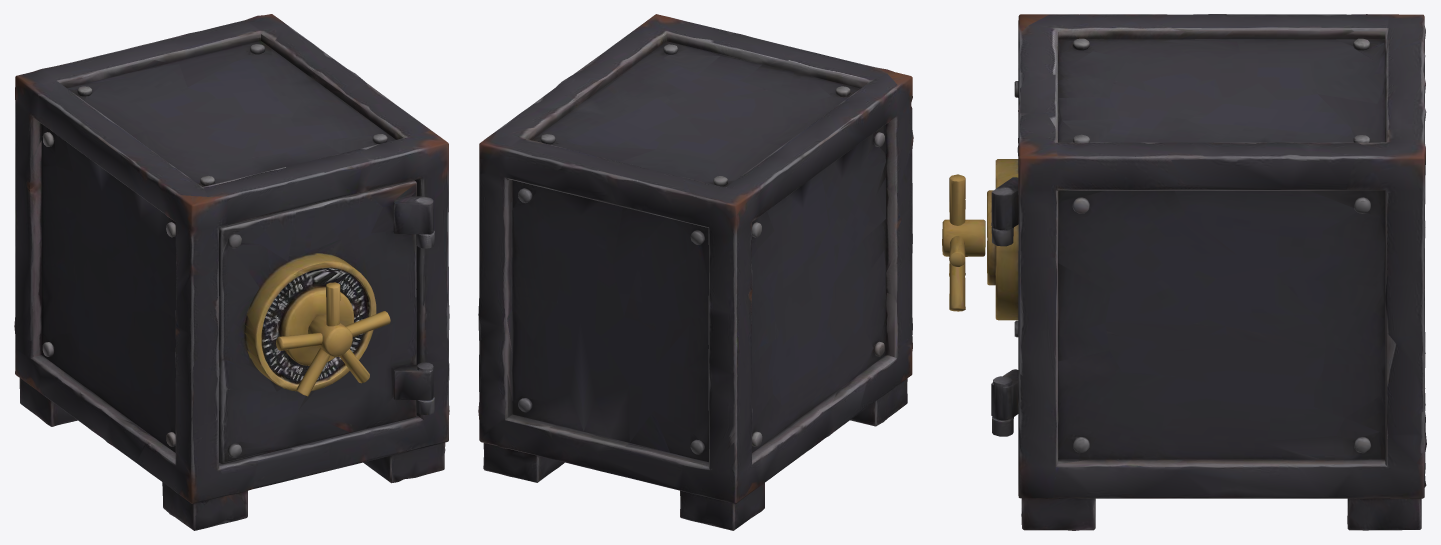
Rendered from safe_metal_nastennyy.glb.
3 views of the same model, side by side, from view 1: azimuth 30°, elevation 25°; view 2: azimuth 150°, elevation 25°; view 3: azimuth 270°, elevation 25° (orthographic). The views are drawn at different scales.
Parts seen in each view (by area): view 1: body, door; view 2: body; view 3: body, door.
Part boxes in pixels (bbox=[...]): body: bbox=[14, 14, 449, 530]; door: bbox=[218, 180, 433, 475]; body: bbox=[478, 14, 913, 530]; body: bbox=[993, 14, 1426, 530]; door: bbox=[942, 81, 1018, 434].
Size of the model in its own units: 0.4957 by 0.5998 by 0.701.
Materials: 7 (3 with a texture image).
